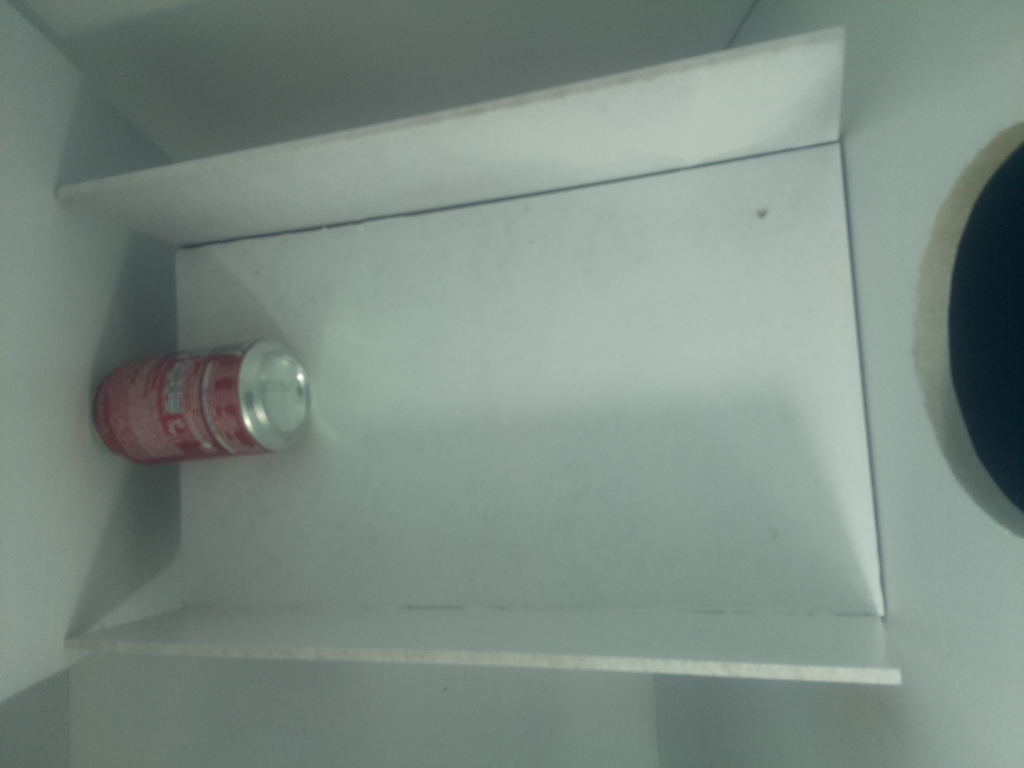kaleng: (91, 342, 308, 461)
